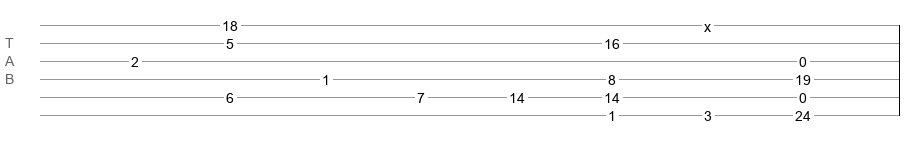0: (799, 54, 807, 64), (799, 90, 807, 100)
1: (322, 72, 330, 82), (608, 108, 616, 118)
14: (509, 90, 525, 100), (604, 90, 620, 100)
16: (604, 36, 620, 46)
18: (222, 18, 238, 28)
19: (795, 72, 811, 82)
2: (131, 54, 139, 64)
24: (795, 108, 811, 118)
3: (704, 108, 712, 118)
5: (226, 36, 234, 46)
6: (226, 90, 234, 100)
7: (417, 90, 425, 100)
8: (608, 72, 616, 82)
x: (704, 19, 711, 27)
